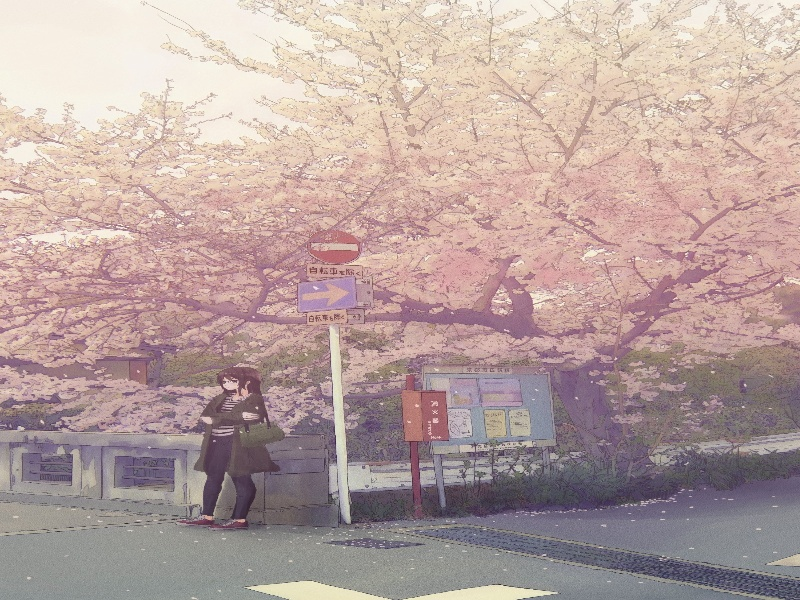person: (211, 362, 270, 403)
